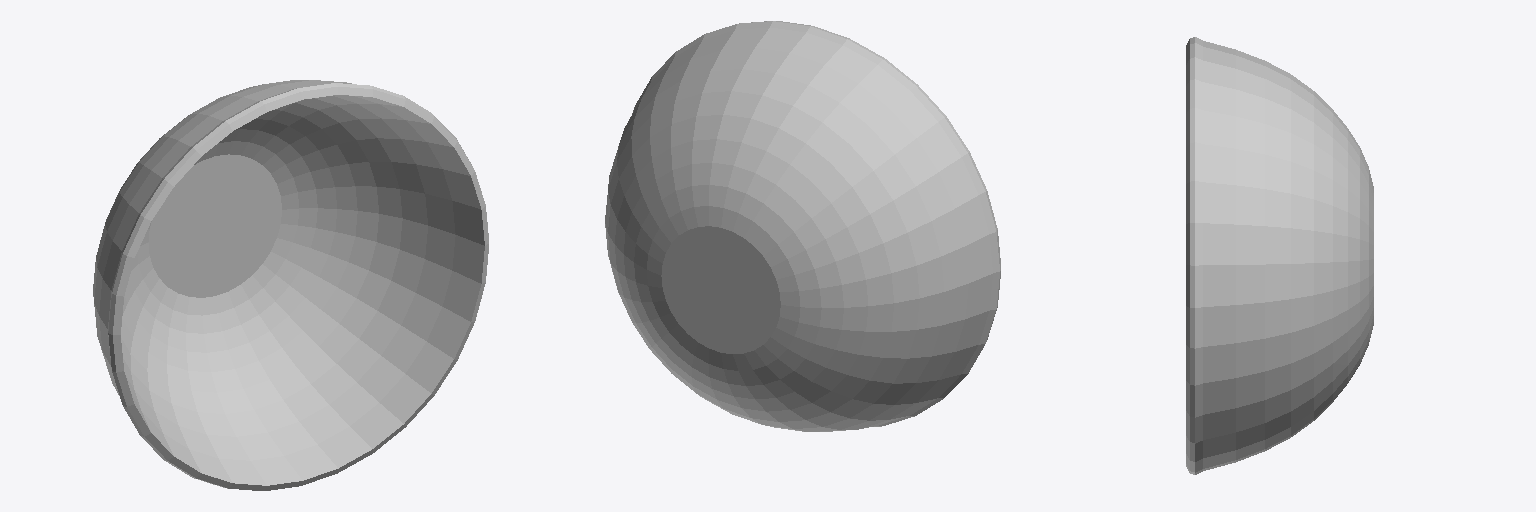
The model's file is SaladBowl.obj.
3 renders of one model, left to right at view 1: azimuth 30°, elevation 25°; view 2: azimuth 150°, elevation 25°; view 3: azimuth 270°, elevation 25°, orthographic.
Parts seen in each view (by area): view 1: SaladBowl; view 2: SaladBowl; view 3: SaladBowl.
Boxes of the visible parts, box(x1,y1,x2,y2) form: SaladBowl: box(93, 80, 488, 490); SaladBowl: box(605, 21, 1000, 431); SaladBowl: box(1186, 37, 1373, 474).
Size of the model in its own units: 0.6244 by 0.6244 by 0.2669.